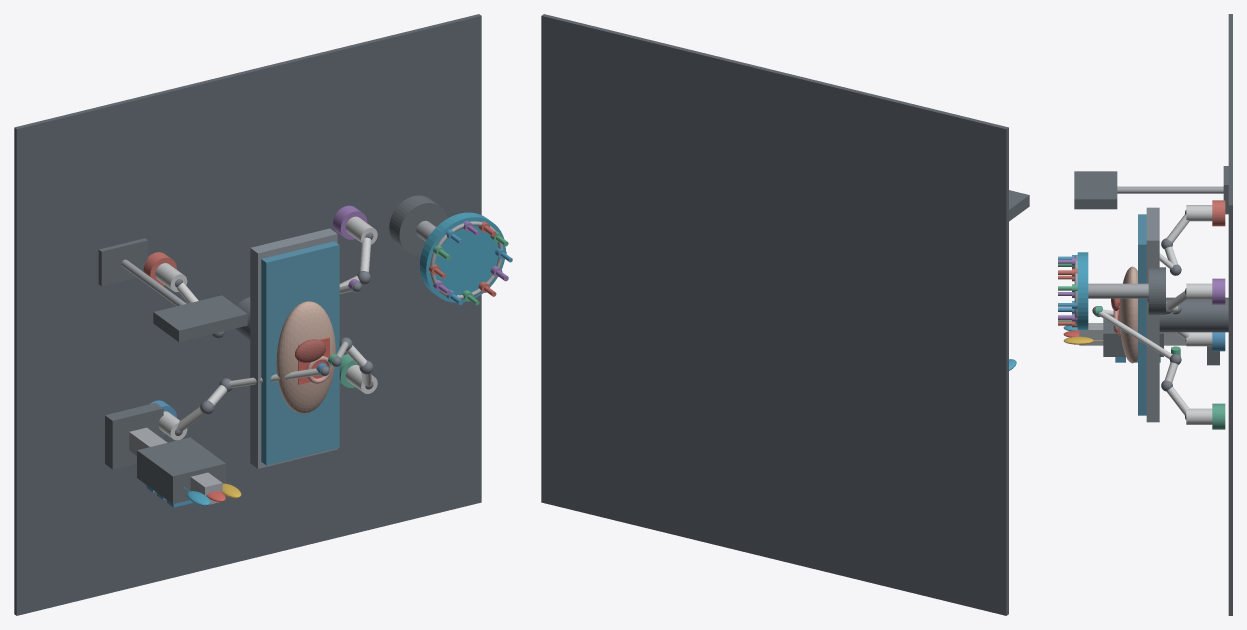
Rendered from dranmar_autonomous_rescue_or_procedure.glb.
3 renders of one model, left to right at view 1: azimuth 30°, elevation 25°; view 2: azimuth 150°, elevation 25°; view 3: azimuth 270°, elevation 25°, orthographic. The views are drawn at different scales.
Visible parts, largest first — view 1: floor, mattress, carousel_rotor, table_base, patient_torso, pump_rack, monitor_body, resus_base, carousel_base, monitor_base, resus_column; view 2: floor; view 3: floor, table_base, table_column, monitor_body, mattress, patient_torso, carousel_column, carousel_rotor, carousel_base, monitor_pole, pump_rack, resus_column (+11 smaller).
Boxes of the visible parts, bbox=[...] form: floor: bbox=[14, 14, 481, 615]; mattress: bbox=[261, 241, 339, 465]; carousel_rotor: bbox=[420, 212, 505, 302]; table_base: bbox=[250, 228, 337, 468]; patient_torso: bbox=[276, 301, 335, 413]; pump_rack: bbox=[137, 437, 225, 503]; monitor_body: bbox=[153, 295, 247, 342]; resus_base: bbox=[105, 403, 163, 469]; carousel_base: bbox=[389, 195, 447, 255]; monitor_base: bbox=[98, 238, 147, 286]; resus_column: bbox=[129, 427, 222, 504]; floor: bbox=[541, 14, 1008, 615]; floor: bbox=[1228, 14, 1232, 615]; table_base: bbox=[1146, 207, 1159, 422]; table_column: bbox=[1159, 297, 1228, 332]; monitor_body: bbox=[1074, 171, 1117, 209]; mattress: bbox=[1138, 214, 1146, 415]; patient_torso: bbox=[1119, 266, 1137, 363]; carousel_column: bbox=[1088, 283, 1148, 298]; carousel_rotor: bbox=[1077, 252, 1088, 329]; carousel_base: bbox=[1148, 267, 1165, 314]; monitor_pole: bbox=[1117, 186, 1223, 193]; pump_rack: bbox=[1103, 316, 1163, 356]; resus_column: bbox=[1079, 323, 1186, 345].
Size of the model in its own units: 4.2 by 4.2 by 1.62.
